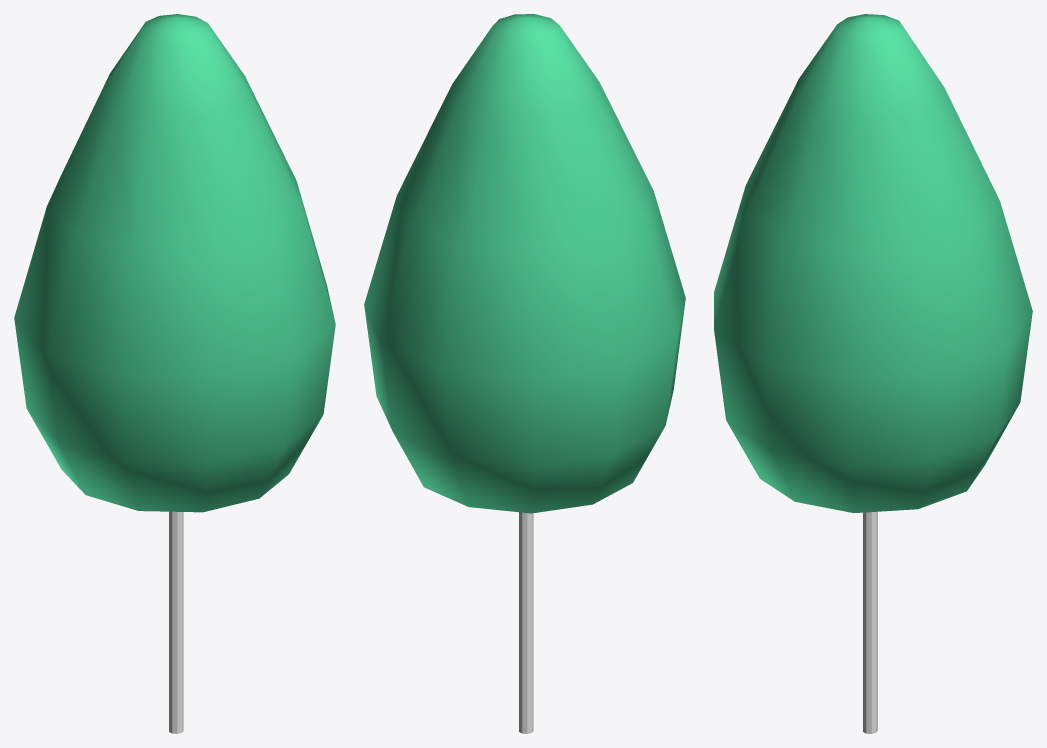
Rendered from 2_GreenTree.fbx.
3 renders of one model, left to right at view 1: azimuth 30°, elevation 25°; view 2: azimuth 150°, elevation 25°; view 3: azimuth 270°, elevation 25°, orthographic.
Parts seen in each view (by area): view 1: Sphere.050, Cylinder.020; view 2: Sphere.050, Cylinder.020; view 3: Sphere.050, Cylinder.020.
Part boxes in pixels (x1,y1,x2,y2): Sphere.050: [14, 14, 335, 512]; Cylinder.020: [169, 511, 183, 733]; Sphere.050: [364, 14, 685, 513]; Cylinder.020: [519, 512, 533, 733]; Sphere.050: [714, 14, 1032, 512]; Cylinder.020: [863, 511, 877, 733].
Size of the model in its own units: 119 by 290 by 118.
